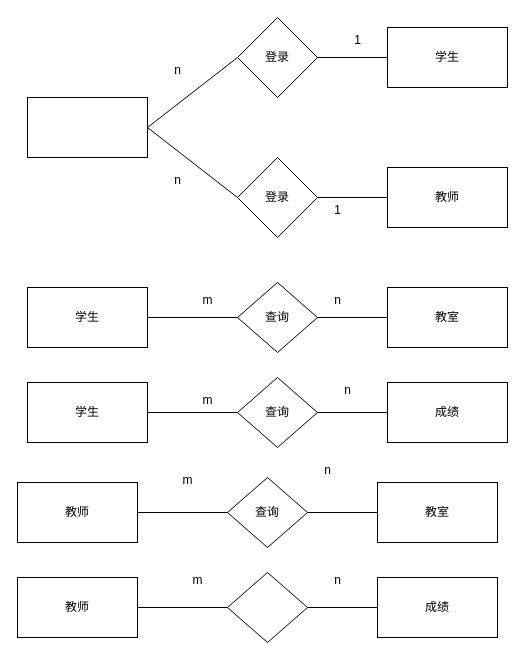
This 525x660 diagram has some shape labels left out. Here are the shapes that lost their labels. From the top down, the box of each, then its label:
(26, 96, 148, 158): 用户
(226, 572, 308, 642): 修改
